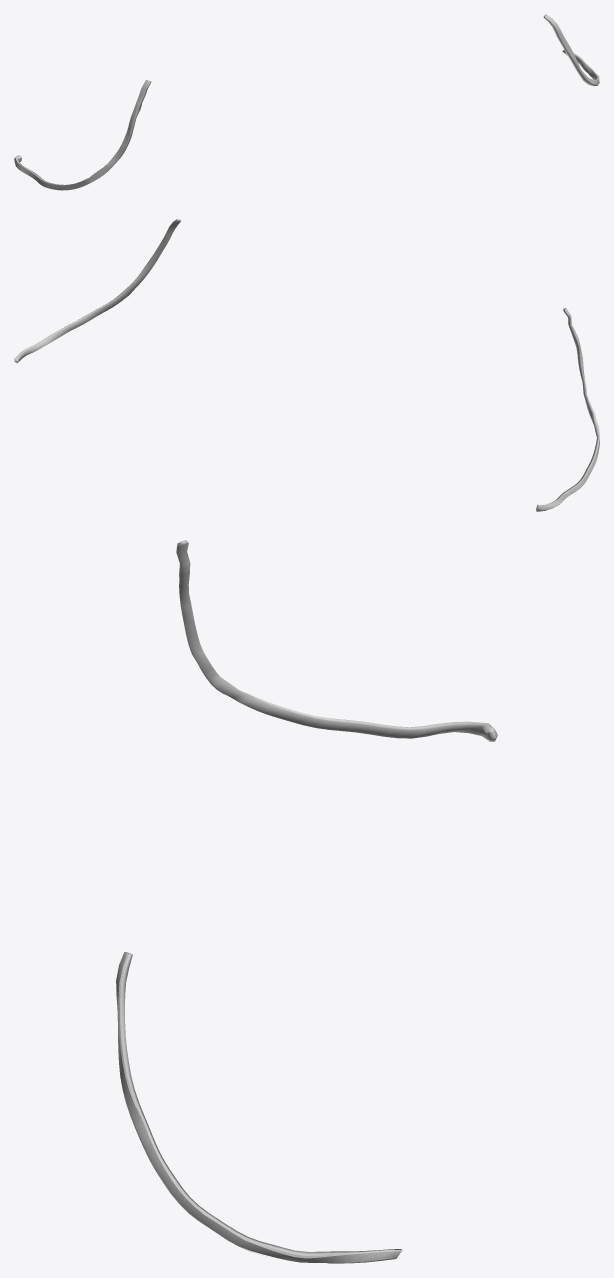
Rendered from Pants_Pocket_TOP.glb.
3 views of the same model, one above another, from view 1: azimuth 30°, elevation 25°; view 2: azimuth 150°, elevation 25°; view 3: azimuth 270°, elevation 25° (orthographic). The views are drawn at different scales.
Parts seen in each view (by area): view 1: Pants_Pocket_TOP1, Rope1; view 2: Pants_Pocket_TOP1; view 3: Pants_Pocket_TOP1, Rope1.
Boxes of the visible parts, bbox=[...] form: Pants_Pocket_TOP1: bbox=[14, 14, 599, 190]; Rope1: bbox=[15, 15, 599, 190]; Pants_Pocket_TOP1: bbox=[14, 219, 599, 511]; Pants_Pocket_TOP1: bbox=[116, 540, 497, 1263]; Rope1: bbox=[118, 540, 495, 1263].
Bounding box in the file's own units: 0.6388 × 0.1481 × 0.1965.
2 materials, 2 textured.
